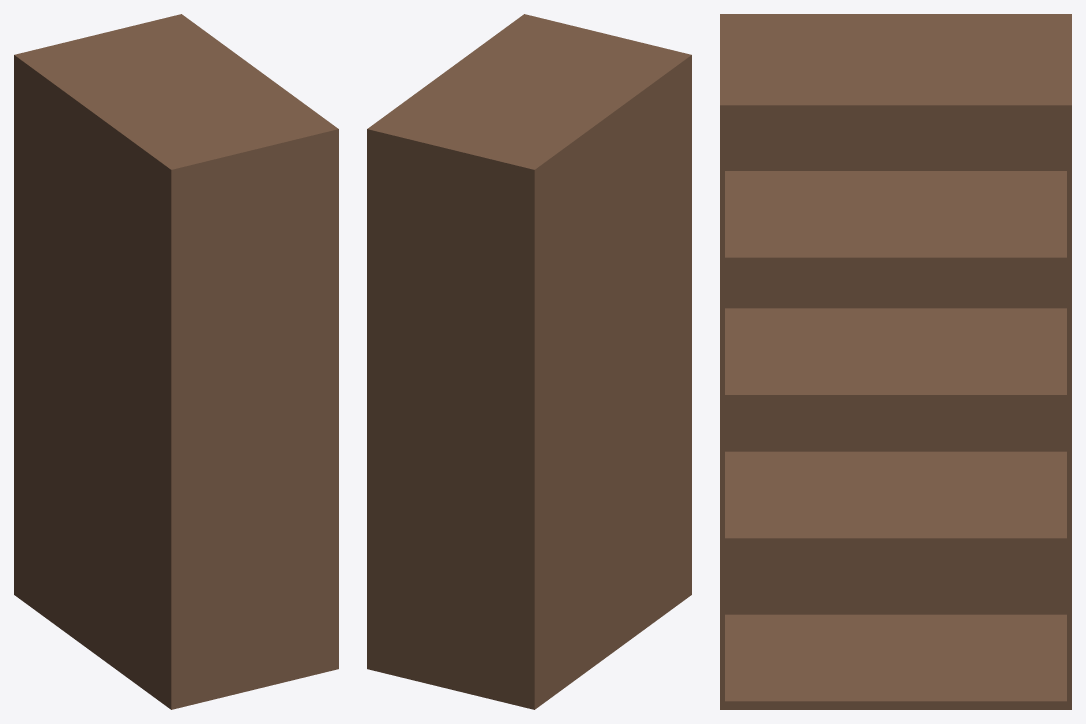
File: cupboard_noDoors.fbx
3 renders of one model, left to right at view 1: azimuth 30°, elevation 25°; view 2: azimuth 150°, elevation 25°; view 3: azimuth 270°, elevation 25°, orthographic. The views are drawn at different scales.
Parts seen in each view (by area): view 1: Cupboard; view 2: Cupboard; view 3: Cupboard.
Part boxes in pixels (x1,y1,x2,y2): Cupboard: (14,14,338,709); Cupboard: (367,14,691,709); Cupboard: (720,14,1071,709).
Size of the model in its own units: 4817 by 14841 by 7831.
